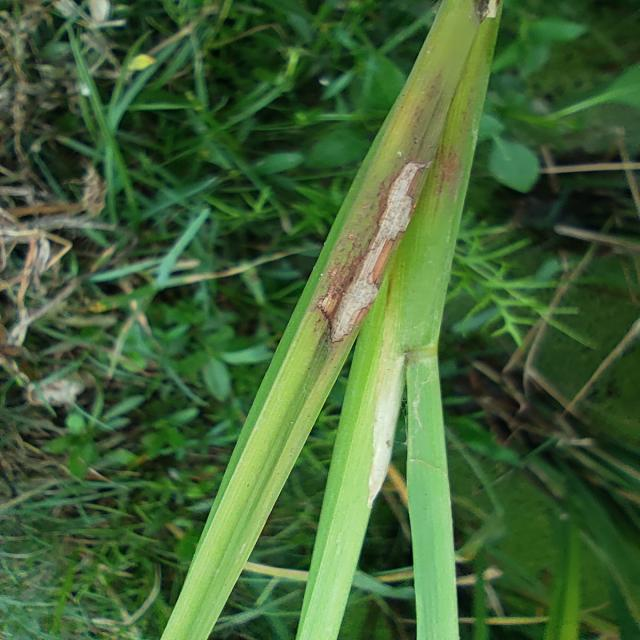Rice Tungro: (315, 158, 432, 345)
